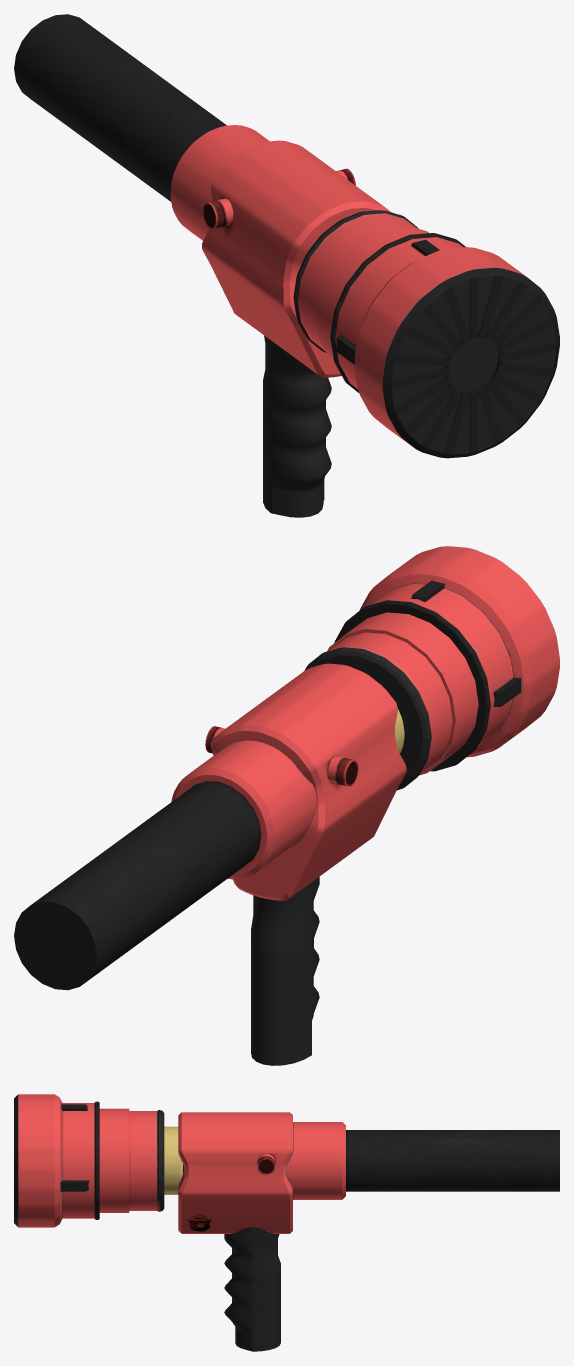
The model's file is water_gun.fbx.
The picture shows the model from 3 angles, top to bottom: view 1: azimuth 30°, elevation 25°; view 2: azimuth 150°, elevation 25°; view 3: azimuth 270°, elevation 25°; orthographic projection. The views are drawn at different scales.
Visible parts, largest first — view 1: water_gun; view 2: water_gun; view 3: water_gun.
Part boxes in pixels (bbox=[...]): water_gun: bbox=[14, 14, 559, 517]; water_gun: bbox=[14, 546, 559, 1065]; water_gun: bbox=[14, 1094, 559, 1351].
Size of the model in its own units: 16.04 by 31.94 by 65.59.
1 material, 1 textured.
